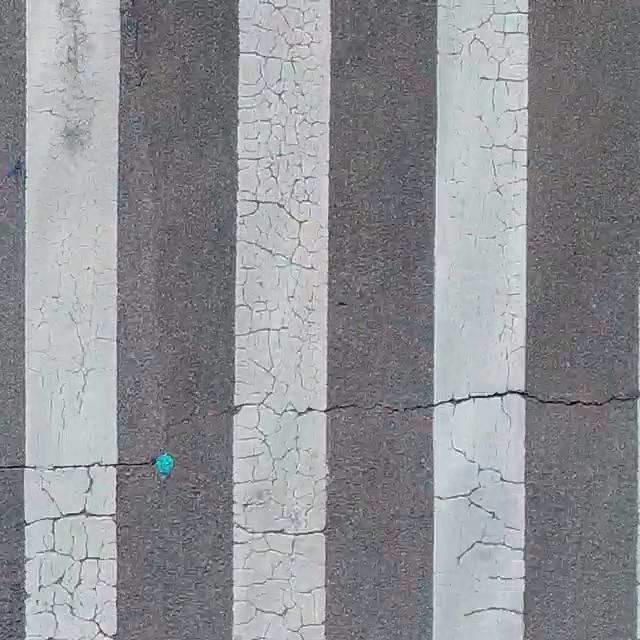GRIETA: (326, 390, 639, 413), (0, 460, 152, 469)
PIEL DE COCODRILO: (232, 0, 328, 639), (445, 0, 531, 361), (26, 469, 116, 639), (451, 457, 532, 628)
